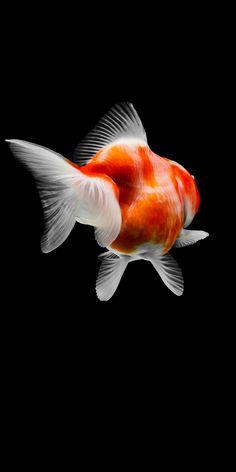goldfish: (14, 107, 231, 311)
